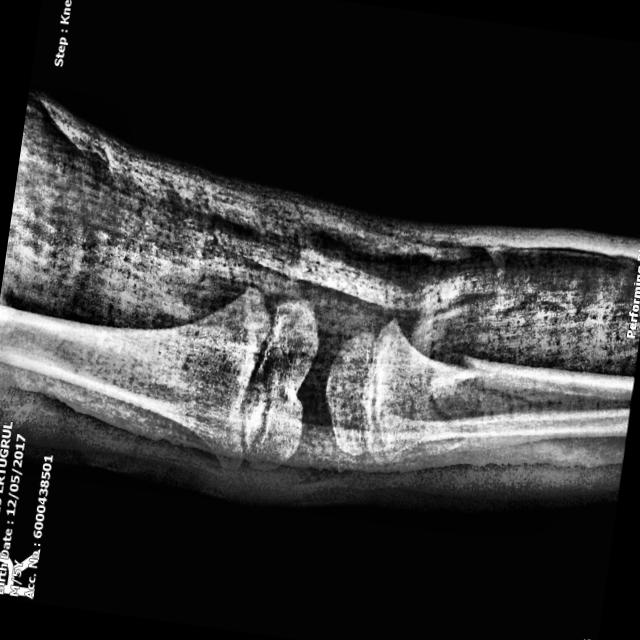Fracture: (410, 323, 538, 421)
